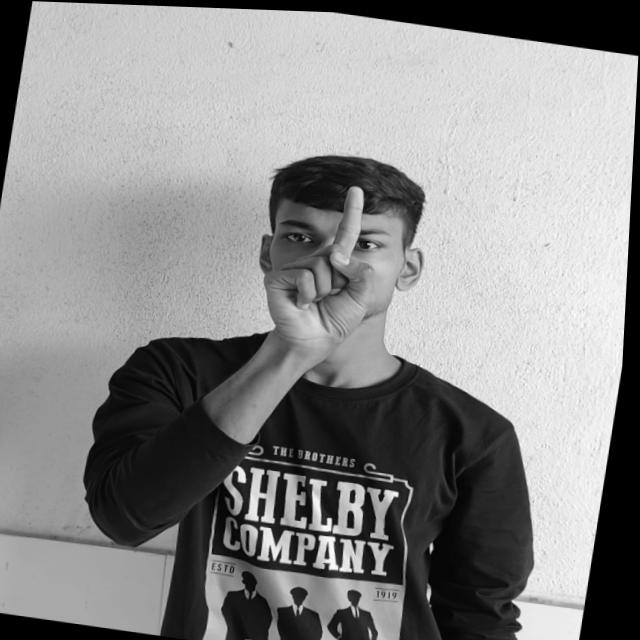Question: (255, 171, 390, 350)
